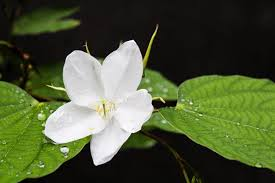flower: (32, 32, 171, 163)
